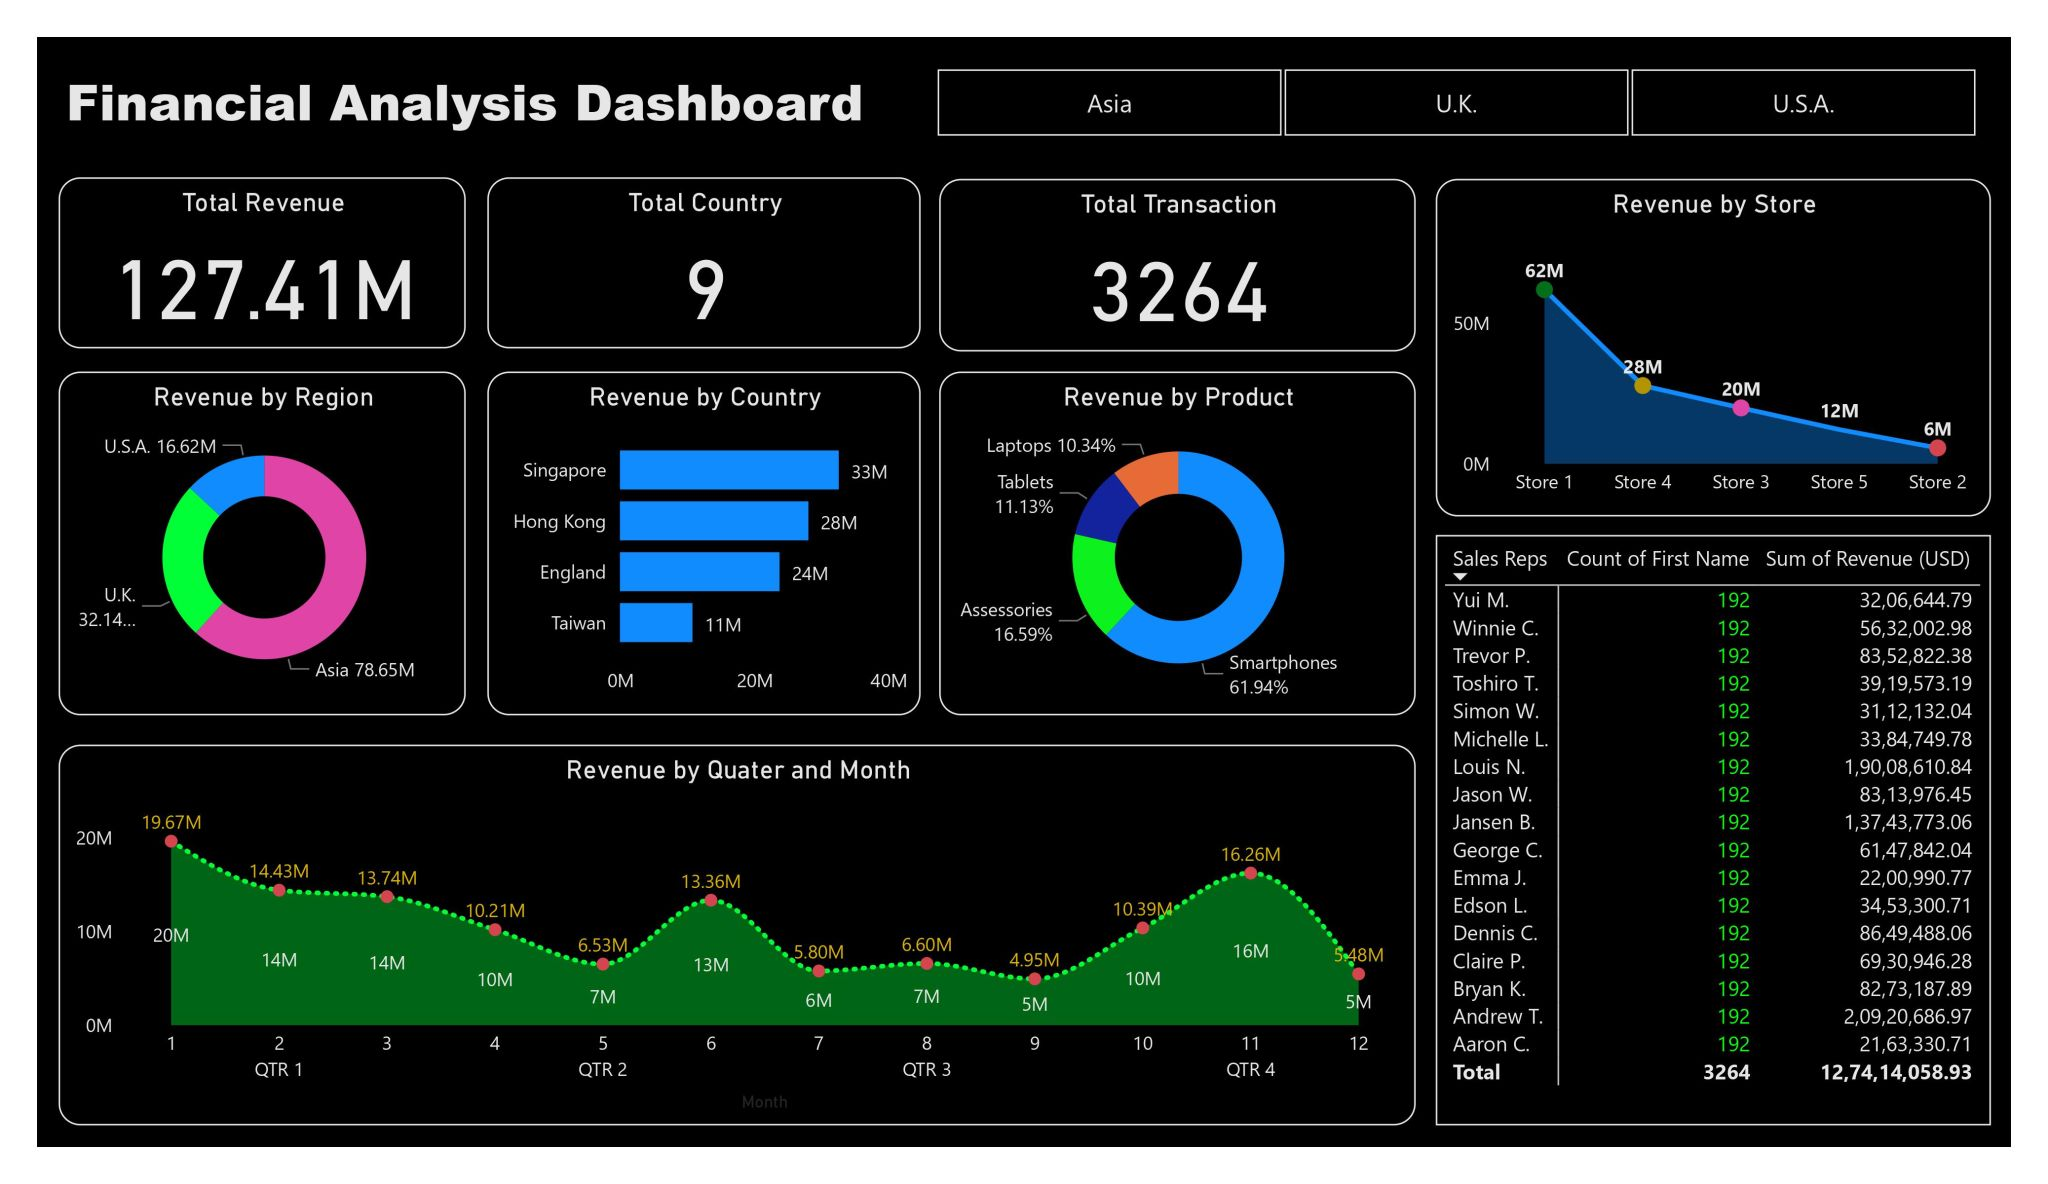

Layout of this report page (visuals, bound fields, positions):
{"tool":"powerbi","page":{"name":"Page 1","canvas":[1280,720],"ordinal":0},"visuals":[{"type":"textbox","box":[13.6,13.6,544.5,63.8],"z":0},{"type":"card","title":"Total Revenue","fields":{"Values":["Sheet1.Revenue (USD)"]},"box":[13.6,91,264.8,111.4],"z":1000},{"type":"card","title":"Total Country","fields":{"Values":["Sheet1.Country"]},"box":[292,91,281.1,111.4],"z":2000},{"type":"card","title":"Total Transaction","fields":{"Values":["Sheet1.First Name"]},"box":[585.3,92.3,308.3,111.4],"z":3000},{"type":"donutChart","title":"Revenue by Region","fields":{"Category":["Sheet1.Region"],"Y":["Sheet1.Revenue (USD)"]},"box":[13.6,217.3,264.8,222.7],"z":4000},{"type":"barChart","title":"Revenue by Country","fields":{"Category":["Sheet1.Country"],"Y":["Sheet1.Revenue (USD)"]},"box":[292,217.3,281.1,222.7],"z":5000},{"type":"stackedAreaChart","title":"Revenue by Quater and Month","fields":{"Category":["Sheet1.Quarter","Sheet1.Month"],"Y":["Sheet1.Revenue (USD)"]},"box":[13.6,459,880,247.1],"z":6000},{"type":"areaChart","title":"Revenue by Store","fields":{"Category":["Sheet1.Rank"],"Y":["Sheet1.Revenue (USD)"]},"box":[907.1,92.3,359.9,218.6],"z":7000},{"type":"pivotTable","fields":{"Rows":["Sheet1.Sales Reps"],"Values":["Sheet1.First Name","Sheet1.Revenue (USD)"]},"box":[907.1,323.2,359.9,382.9],"z":8000},{"type":"donutChart","title":"Revenue by Product","fields":{"Y":["Sheet1.Revenue (USD)"],"Category":["Sheet1.Products"]},"box":[585.3,217.3,308.3,222.7],"z":9000},{"type":"slicer","fields":{"Values":["Sheet1.Region"]},"box":[558.1,13.6,722.4,57],"z":10000}]}

Visuals, with their boxes on the page's 1280x720 design canvas (x1, y1, x2, y2). These are canvas units, not pixel positions in the 2048x1184 screenshot, which may show the page scaled, cropped or inside an application window:
textbox: (14, 14, 558, 77)
"Total Revenue" card: (14, 91, 278, 202)
"Total Country" card: (292, 91, 573, 202)
"Total Transaction" card: (585, 92, 894, 204)
"Revenue by Region" donutChart: (14, 217, 278, 440)
"Revenue by Country" barChart: (292, 217, 573, 440)
"Revenue by Quater and Month" stackedAreaChart: (14, 459, 894, 706)
"Revenue by Store" areaChart: (907, 92, 1267, 311)
pivotTable - Sheet1.Sales Reps x Sheet1.First Name: (907, 323, 1267, 706)
"Revenue by Product" donutChart: (585, 217, 894, 440)
slicer - Sheet1.Region: (558, 14, 1280, 71)
